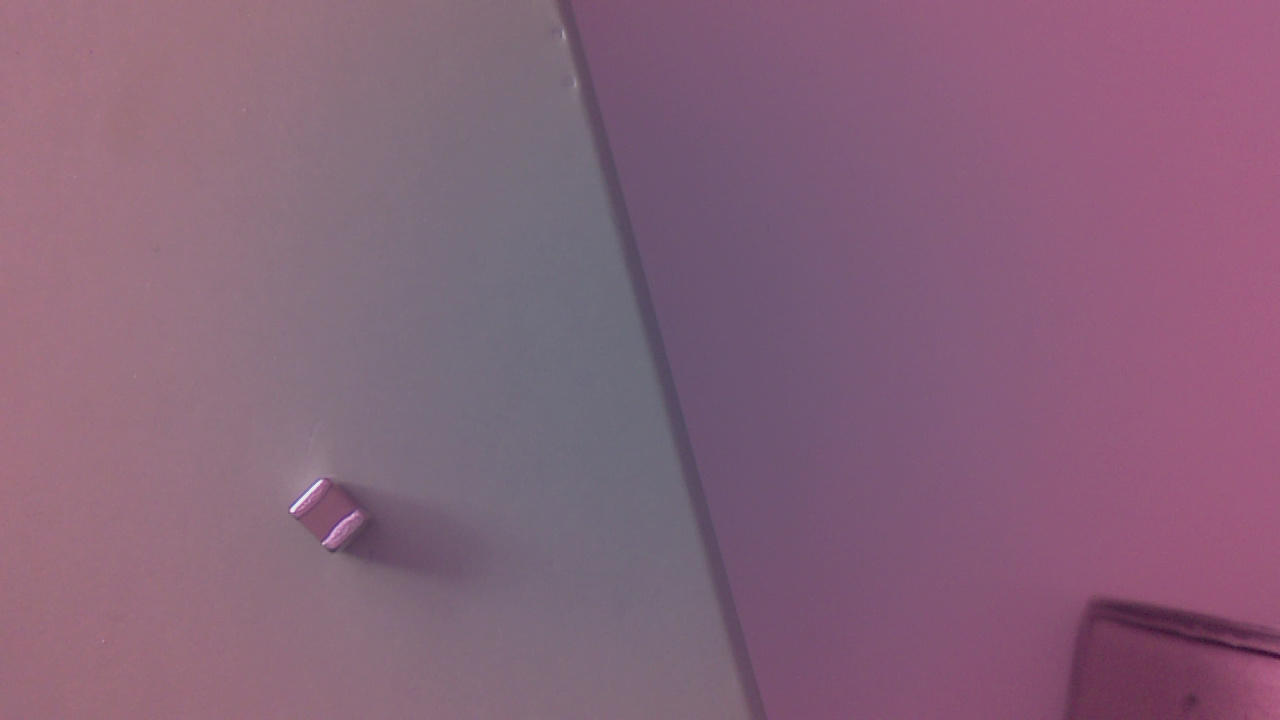Condensator: (292, 481, 376, 559)
